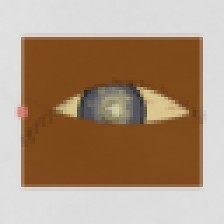corneal_ulcer: (91, 91, 135, 127)
